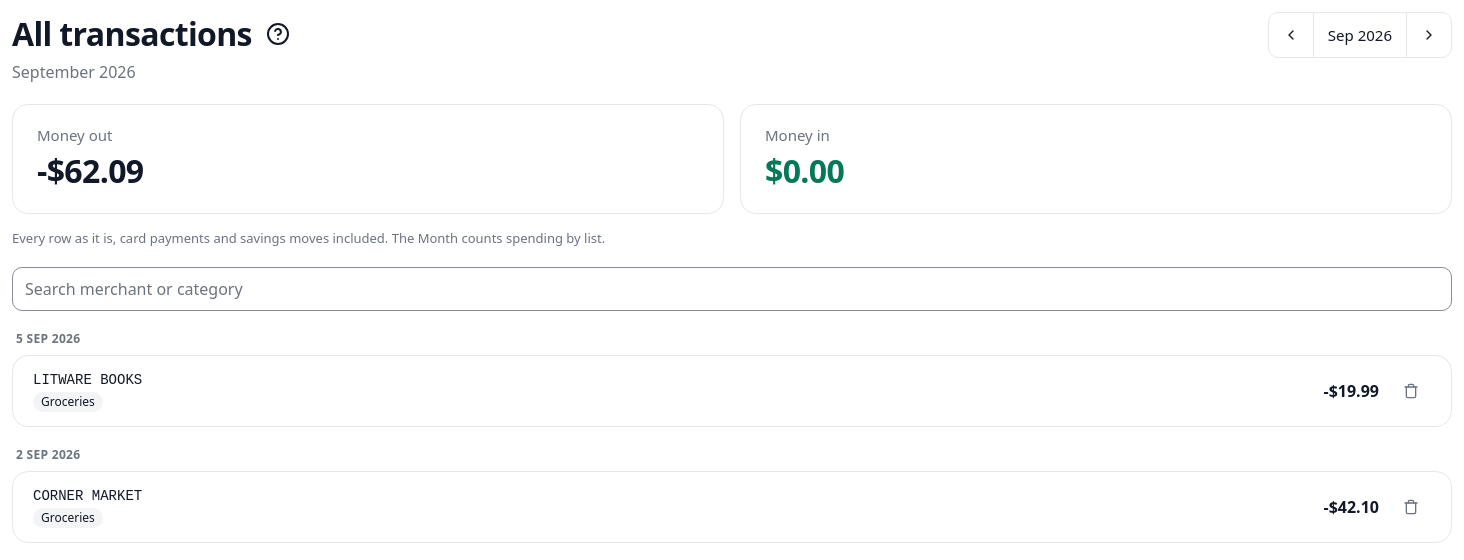
Test: LedgerScreen, a row dated after this month › steps forward to it, removes it, and stops where nothing is later
The image size is (1464, 560).
Expected: the text "CORNER MARKET" is shown, [33,488,142,504]
Expected: the text "GARDEN CENTRE" is not shown
Click the button named "Next month" at (1429,35), box [1407,13,1451,57]
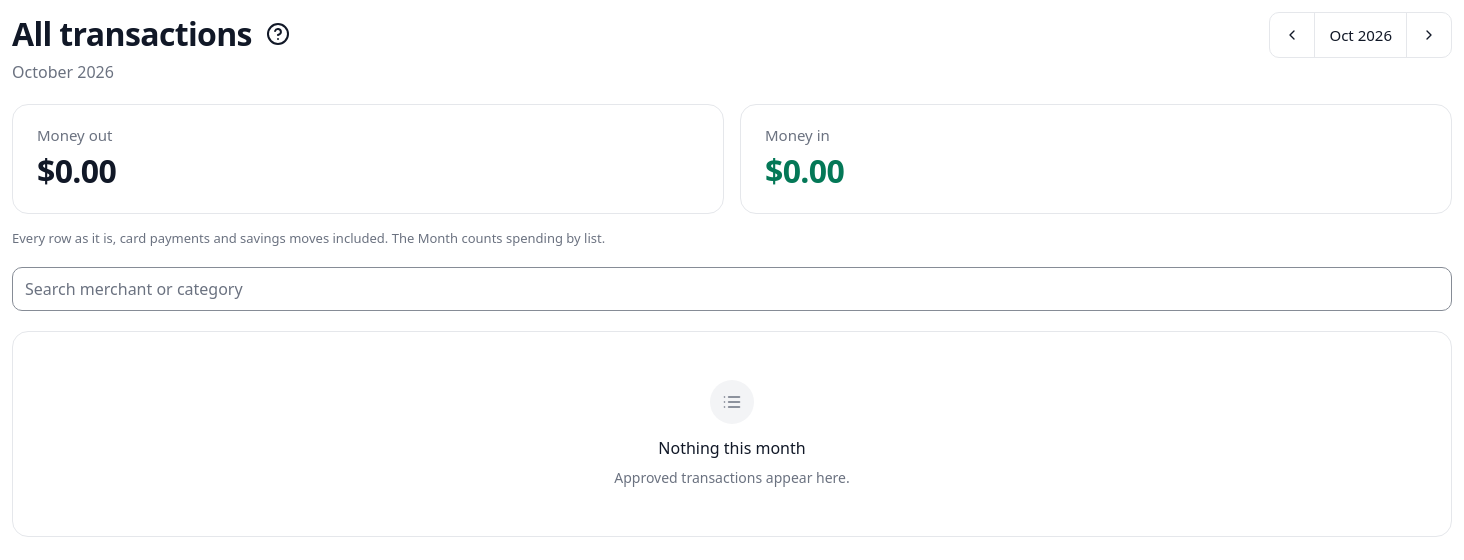
Expected: the text "Oct 2026" is shown, [1314,13,1407,57]
Click the button named "Next month" at (1429,35), box [1407,13,1451,57]
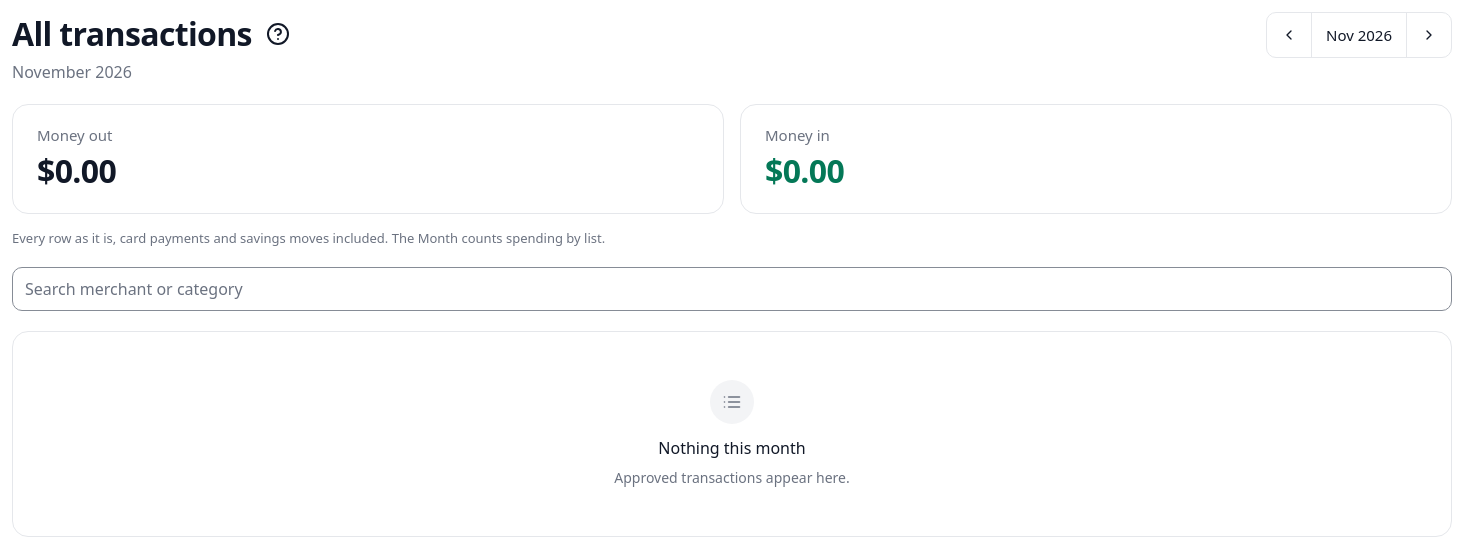
Expected: the text "Nov 2026" is shown, [1311,13,1407,57]
Click the button named "Next month" at (1429,35), box [1407,13,1451,57]
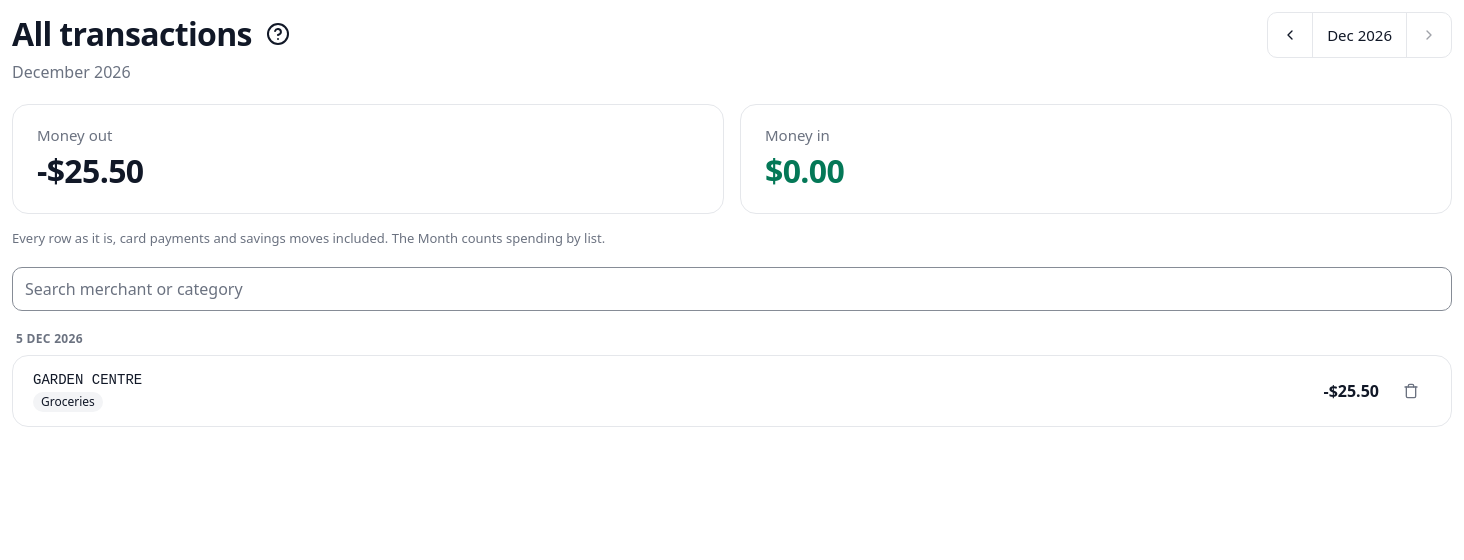
Expected: the text "Dec 2026" is shown, [1312,13,1407,57]
Expected: the text "GARDEN CENTRE" is shown, [33,372,142,388]
Click the button named "Remove this transaction" at (1411,391), box [1391,371,1431,411]
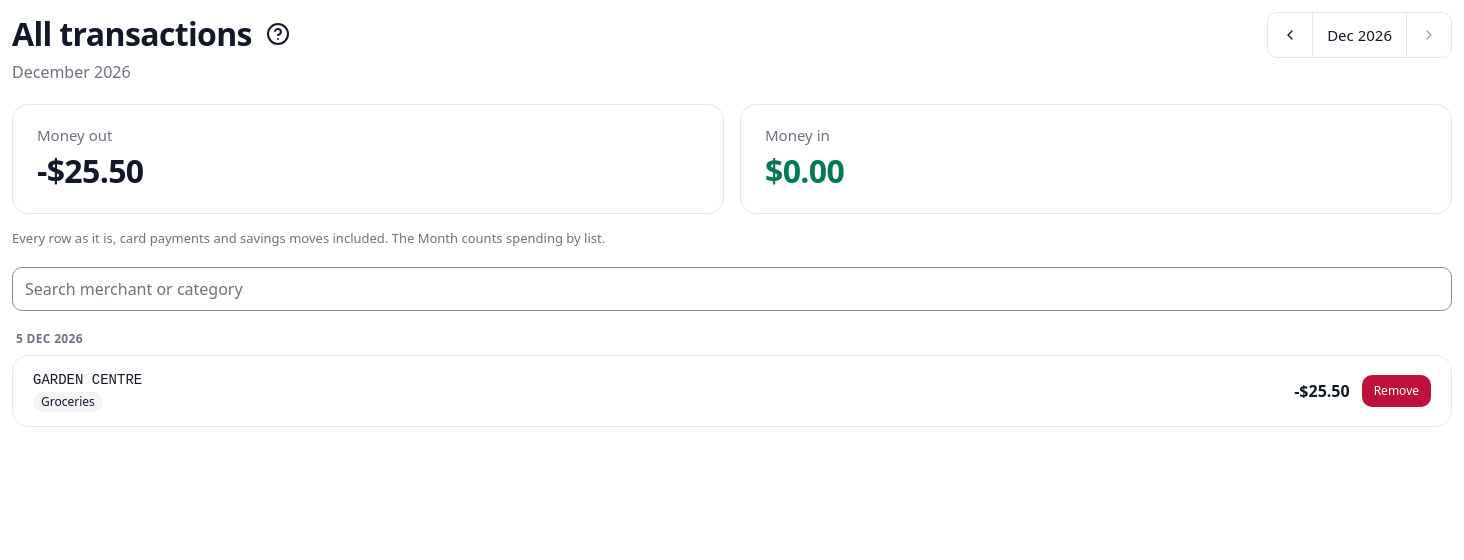
Click the button "Remove" at (1396,391), box [1362,375,1431,407]
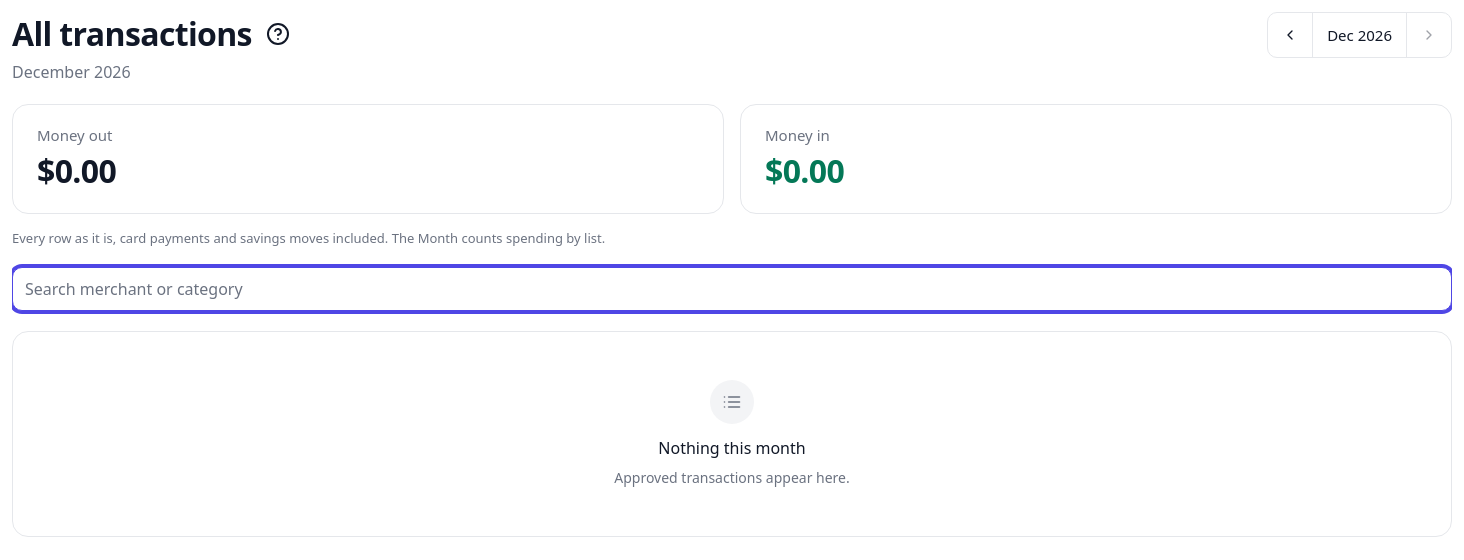
Expected: the text "GARDEN CENTRE" is gone
